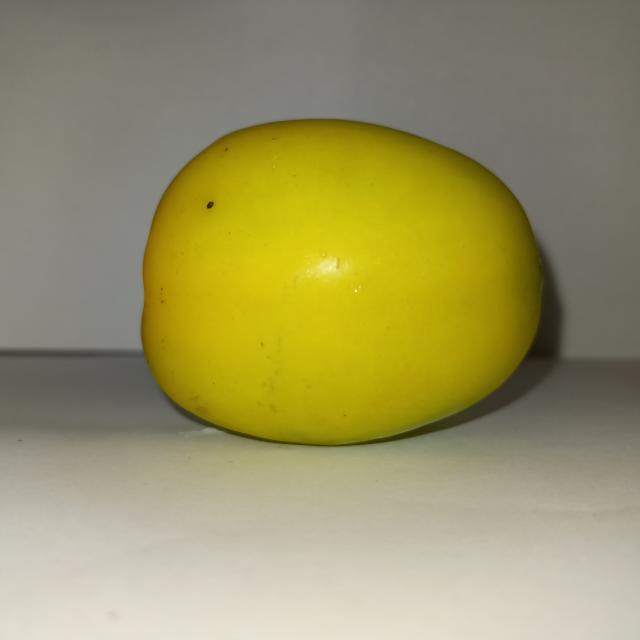Red: (139, 116, 546, 447)
